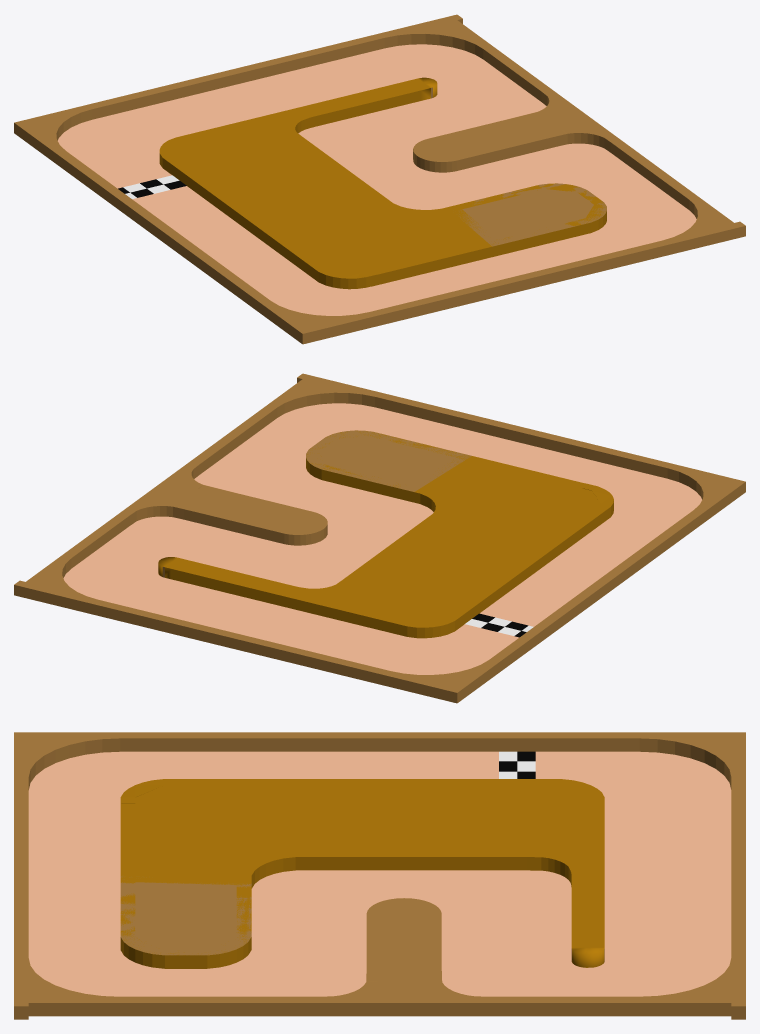
Rendered from pista_V3.3.fbx.
3 views of the same model, one above another, from view 1: azimuth 30°, elevation 25°; view 2: azimuth 150°, elevation 25°; view 3: azimuth 270°, elevation 25° (orthographic). The views are drawn at different scales.
Parts seen in each view (by area): view 1: Plane.050, CurvasInts, PE3, CurvaExtra, CantosExts.002, meta; view 2: Plane.050, CurvasInts, PE3, CurvaExtra, CantosExts.002, meta; view 3: Plane.050, CurvasInts, PE3, CurvaExtra, CantosExts.002, meta.
Boxes of the visible parts, <box> form: Plane.050: <box>58,44,696,315</box>; CurvasInts: <box>159,77,606,289</box>; PE3: <box>14,14,745,344</box>; CurvaExtra: <box>413,89,610,172</box>; CantosExts.002: <box>17,21,723,326</box>; meta: <box>118,175,186,199</box>; Plane.050: <box>63,403,701,674</box>; CurvasInts: <box>158,430,613,638</box>; PE3: <box>14,373,745,703</box>; CurvaExtra: <box>120,465,327,545</box>; CantosExts.002: <box>28,381,729,691</box>; meta: <box>465,613,533,637</box>; Plane.050: <box>28,751,731,996</box>; CurvasInts: <box>120,779,604,968</box>; PE3: <box>14,732,745,1019</box>; CurvaExtra: <box>316,898,491,1016</box>; CantosExts.002: <box>28,733,743,1001</box>; meta: <box>499,751,535,778</box>.
Size of the model in its own units: 21120 by 490 by 23824.
